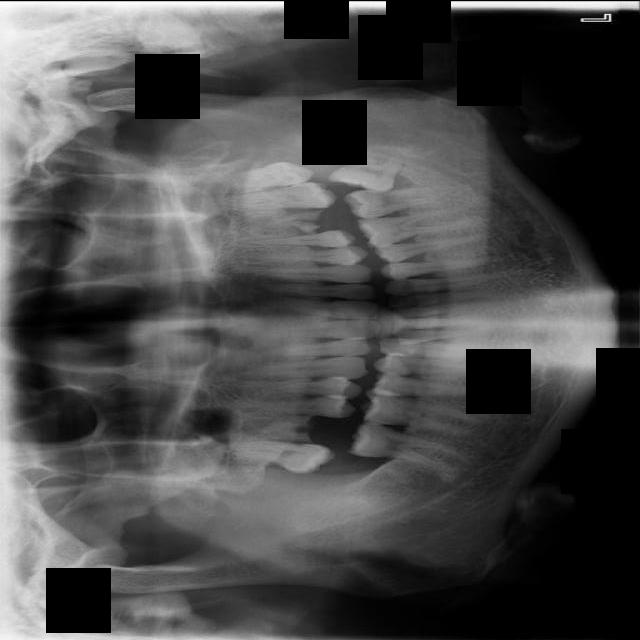73: (564, 47, 564, 66)
BioHorizons Implant: (216, 181, 338, 210)
BioLife Implant: (217, 159, 315, 190)
Biomet 3i Implant: (327, 136, 406, 200)
Blue Sky Bio Implant: (344, 184, 456, 218)
Caries: (223, 436, 336, 475)
Implant: (347, 418, 478, 476)
